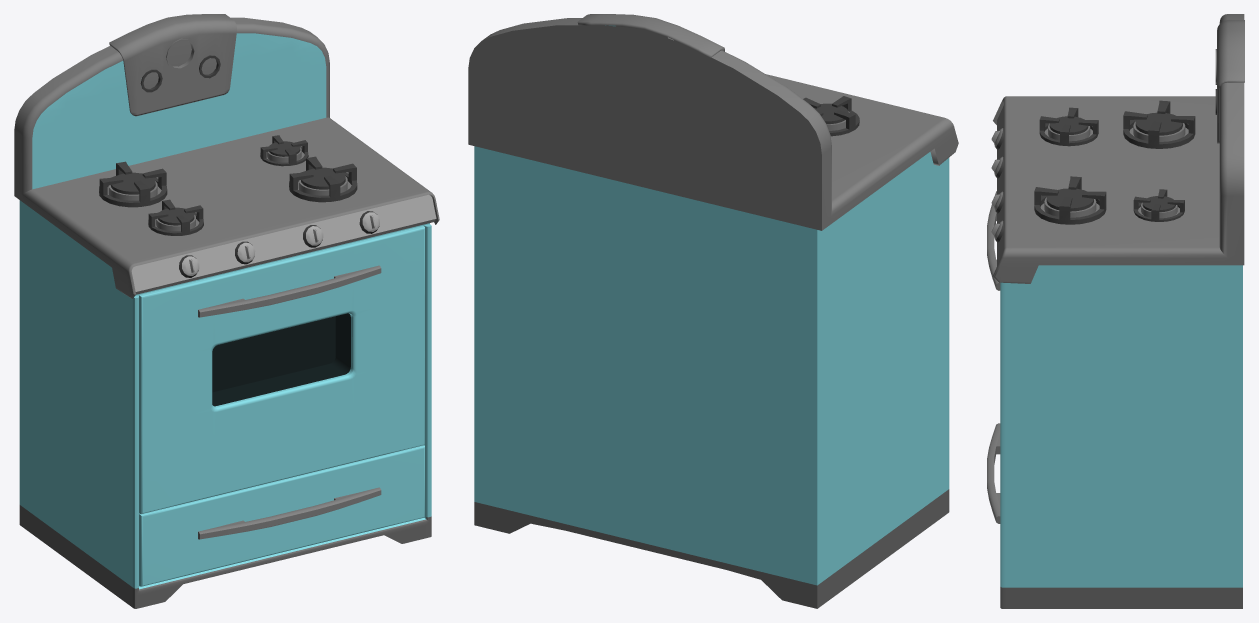
Rendered from Estufa_15x10.fbx.
3 renders of one model, left to right at view 1: azimuth 30°, elevation 25°; view 2: azimuth 150°, elevation 25°; view 3: azimuth 270°, elevation 25°, orthographic. The views are drawn at different scales.
Visible parts, largest first — view 1: Estufa_Cuerpo, Estufa_Superficie, Estufa_DetalleArriba3, Estufa_VidrioHorno, Estufa_Manija01, Estufa_Manija02, Estufa_ProteccionQuemador03, Estufa_ProteccionQuemador01, Estufa_ProteccionQuemador02, Estufa_Quemador03, Estufa_Quemador01, Estufa_ProteccionQuemador04 (+1 smaller); view 2: Estufa_Cuerpo, Estufa_Superficie, Estufa_DetalleArriba3, Estufa_ProteccionQuemador02; view 3: Estufa_Cuerpo, Estufa_Superficie, Estufa_DetalleArriba3, Estufa_ProteccionQuemador01, Estufa_ProteccionQuemador03, Estufa_Quemador01, Estufa_Quemador03, Estufa_ProteccionQuemador02, Estufa_Manija02, Estufa_ProteccionQuemador04, Estufa_Quemador02, Estufa_Manija01 (+1 smaller).
Part boxes in pixels (x1,y1,x2,y2): Estufa_Cuerpo: [19, 200, 431, 608]; Estufa_Superficie: [14, 17, 439, 298]; Estufa_DetalleArriba3: [109, 14, 236, 116]; Estufa_VidrioHorno: [212, 313, 350, 406]; Estufa_Manija01: [198, 265, 381, 317]; Estufa_Manija02: [198, 487, 381, 539]; Estufa_ProteccionQuemador03: [99, 161, 167, 207]; Estufa_ProteccionQuemador01: [289, 156, 357, 202]; Estufa_ProteccionQuemador02: [148, 199, 203, 235]; Estufa_Quemador03: [108, 172, 157, 200]; Estufa_Quemador01: [298, 167, 347, 195]; Estufa_ProteccionQuemador04: [260, 135, 308, 166]; Estufa_Cuerpo: [474, 146, 949, 608]; Estufa_Superficie: [468, 18, 958, 230]; Estufa_DetalleArriba3: [577, 14, 724, 57]; Estufa_ProteccionQuemador02: [803, 96, 859, 136]; Estufa_Cuerpo: [1000, 265, 1242, 608]; Estufa_Superficie: [993, 14, 1244, 283]; Estufa_DetalleArriba3: [1215, 20, 1244, 143]; Estufa_ProteccionQuemador01: [1034, 176, 1106, 224]; Estufa_ProteccionQuemador03: [1123, 100, 1195, 148]; Estufa_Quemador01: [1044, 188, 1096, 217]; Estufa_Quemador03: [1133, 112, 1185, 141]; Estufa_ProteccionQuemador02: [1039, 107, 1098, 146]; Estufa_Manija02: [987, 423, 1000, 523]; Estufa_ProteccionQuemador04: [1133, 189, 1184, 221]; Estufa_Quemador02: [1048, 116, 1090, 141]; Estufa_Manija01: [987, 191, 1000, 290].
Bounding box in the file's own units: 10.31 × 15.1 × 7.15.
